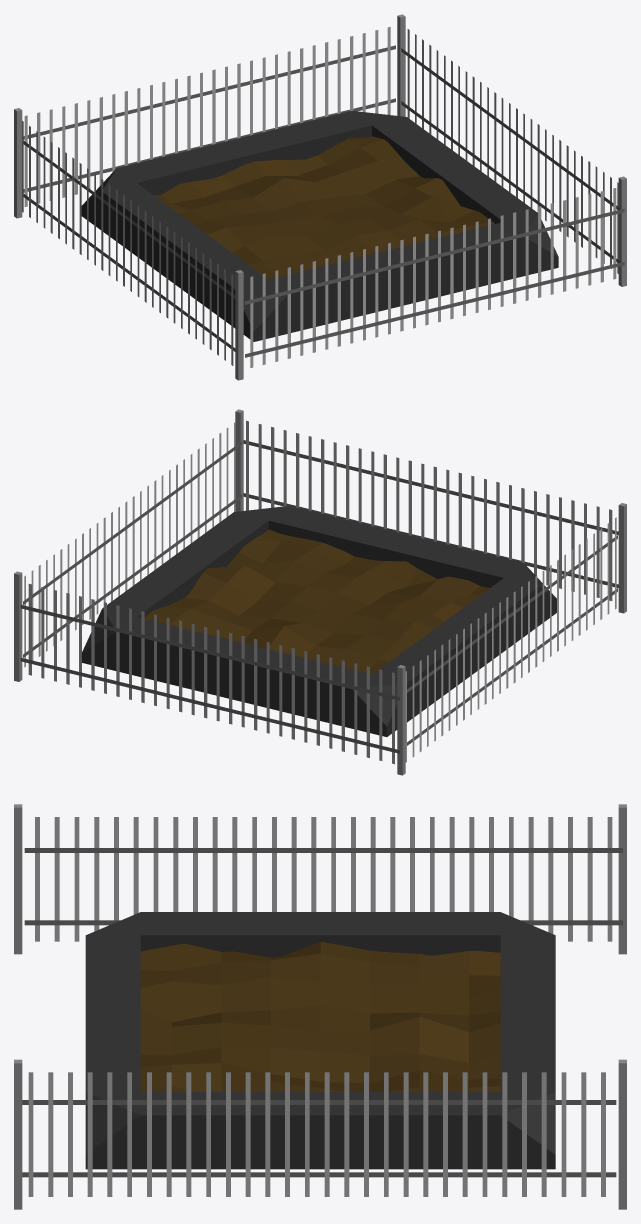
File: CityFarm.fbx
3 views of the same model, one above another, from view 1: azimuth 30°, elevation 25°; view 2: azimuth 150°, elevation 25°; view 3: azimuth 270°, elevation 25° (orthographic). The views are drawn at different scales.
Parts seen in each view (by area): view 1: Cube.004, Plane.008, Plane.001, Plane.005, Plane.004, Plane, Plane.003, Plane.007, Plane.002, Plane.006, Cube.003, Cube (+2 smaller); view 2: Cube.004, Plane.008, Plane.005, Plane.001, Plane.004, Plane, Plane.007, Plane.003, Plane.002, Plane.006, Cube.003, Cube.002 (+2 smaller); view 3: Cube.004, Plane.008, Plane, Plane.004, Plane.002, Plane.006, Cube, Cube.002, Cube.003, Cube.001.
Boxes of the visible parts, x1,y1,x2,y2 form: Cube.004: (81, 110, 558, 341); Plane.008: (154, 136, 494, 279); Plane.001: (250, 188, 616, 367); Plane.005: (24, 27, 390, 206); Plane.004: (22, 121, 233, 365); Plane: (407, 29, 618, 273); Plane.003: (245, 208, 624, 357); Plane.007: (23, 45, 395, 192); Plane.002: (401, 48, 620, 262); Plane.006: (23, 141, 235, 351); Cube.003: (235, 270, 243, 380); Cube: (618, 176, 626, 286); Cube.004: (82, 506, 556, 736); Plane.008: (144, 529, 489, 674); Plane.005: (28, 584, 394, 764); Plane.001: (246, 420, 612, 600); Plane.004: (405, 517, 616, 762); Plane: (24, 422, 235, 667); Plane.007: (20, 605, 399, 753); Plane.003: (243, 440, 618, 587); Plane.002: (23, 441, 242, 657); Plane.006: (407, 535, 617, 745); Cube.003: (618, 503, 626, 613); Cube.002: (14, 571, 22, 681); Cube.004: (85, 912, 555, 1169); Plane.008: (140, 941, 500, 1091); Plane: (28, 1072, 605, 1196); Plane.004: (35, 817, 612, 941); Plane.002: (22, 1100, 616, 1177); Plane.006: (24, 848, 622, 925); Cube: (14, 1059, 22, 1209); Cube.002: (618, 1059, 626, 1209); Cube.003: (14, 804, 22, 954); Cube.001: (618, 804, 626, 954).
Bounding box in the file's own units: 1115 × 294 × 1115.
1 material, 1 textured.
